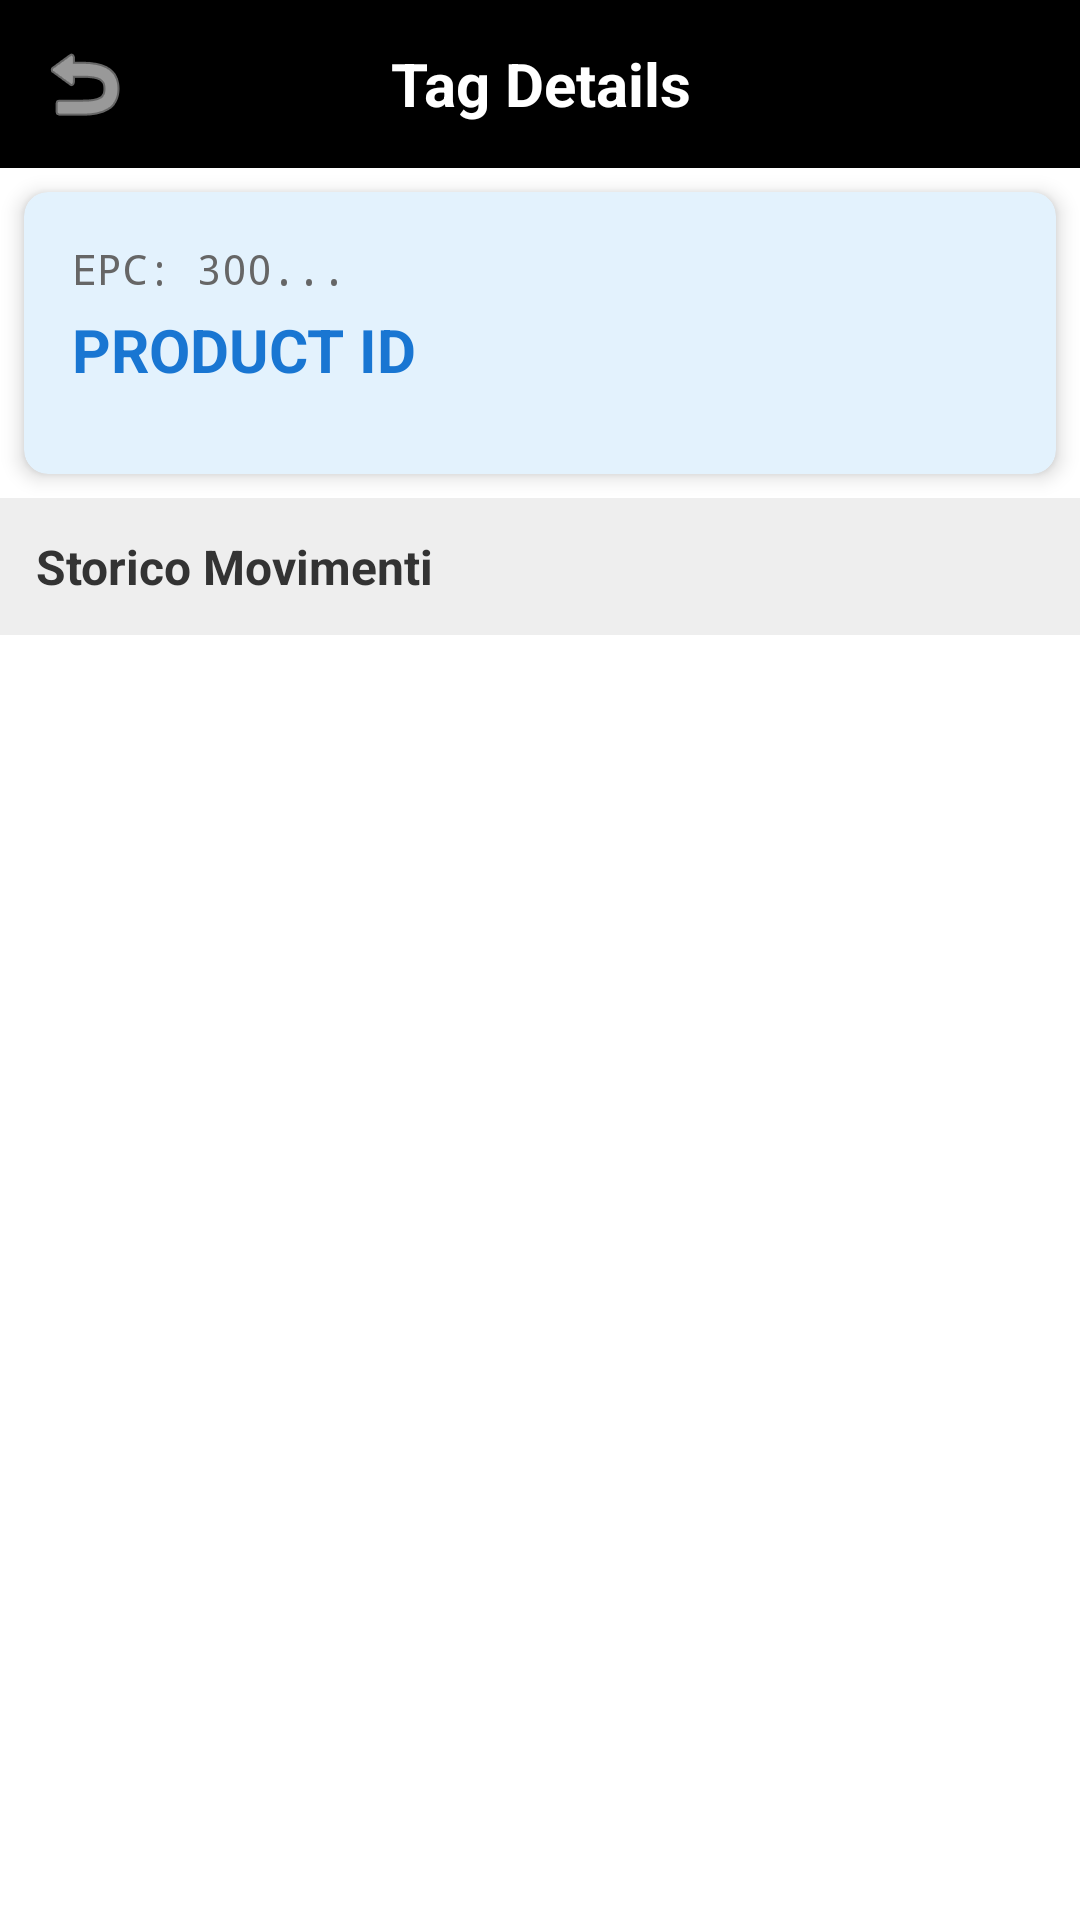

Where to tap for icons on this 1080x1920 app screen, as (x=x, y=y):
Back: (x=85, y=84)
